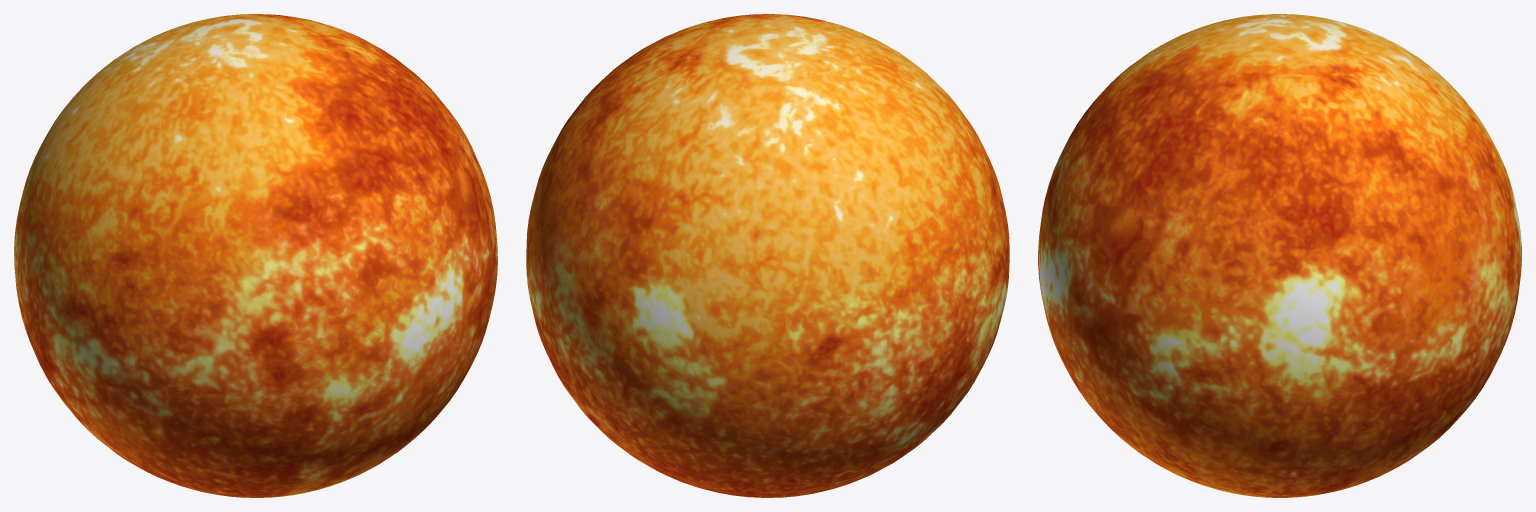
Rendered from sun.fbx.
3 renders of one model, left to right at view 1: azimuth 30°, elevation 25°; view 2: azimuth 150°, elevation 25°; view 3: azimuth 270°, elevation 25°, orthographic.
Visible parts, largest first — view 1: sun1; view 2: sun1; view 3: sun1.
Part boxes in pixels (x1,y1,x2,y2): sun1: (14,14,497,497); sun1: (526,14,1009,497); sun1: (1038,14,1521,497).
Bounding box in the file's own units: 2946 × 2950 × 2949.
1 material, 1 textured.
